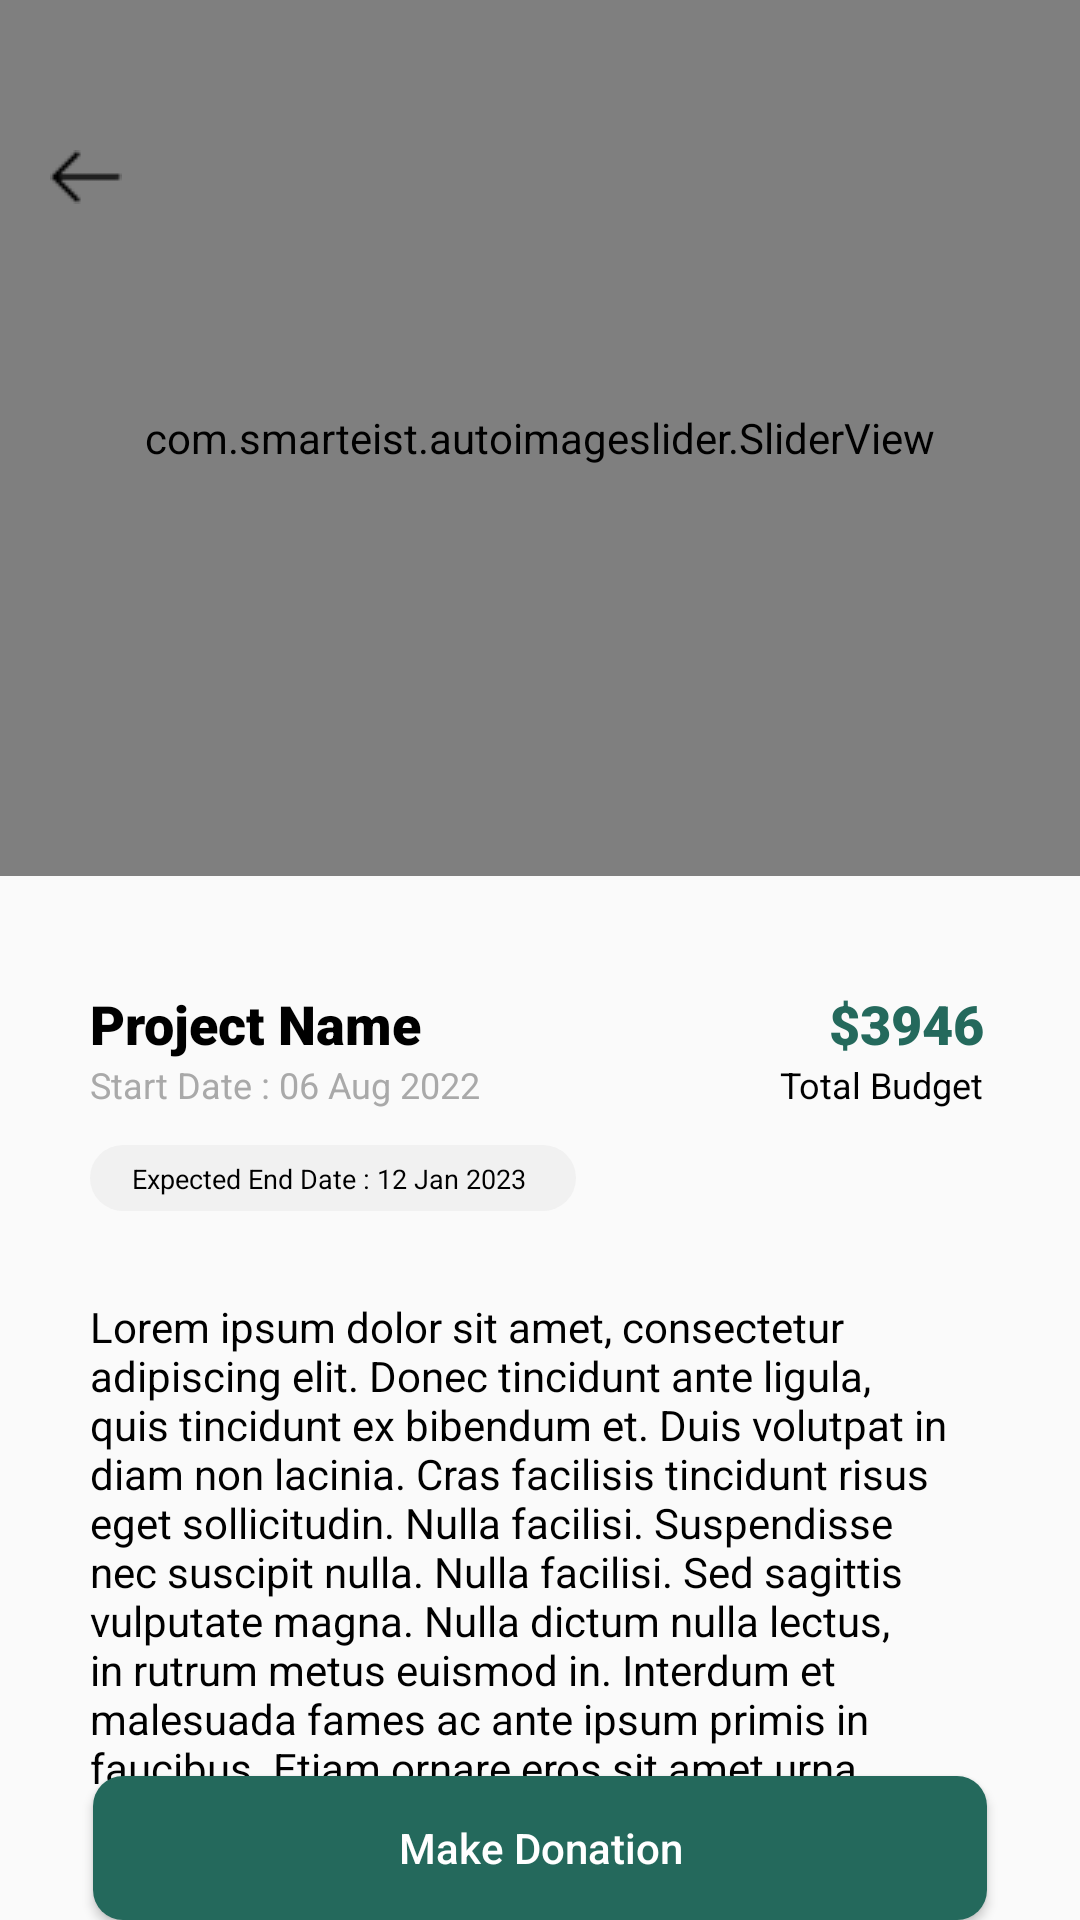

Where to tap for icons on this 1080x1920 app screen, as (x=x, y=y):
go back botton: (x=86, y=177)
